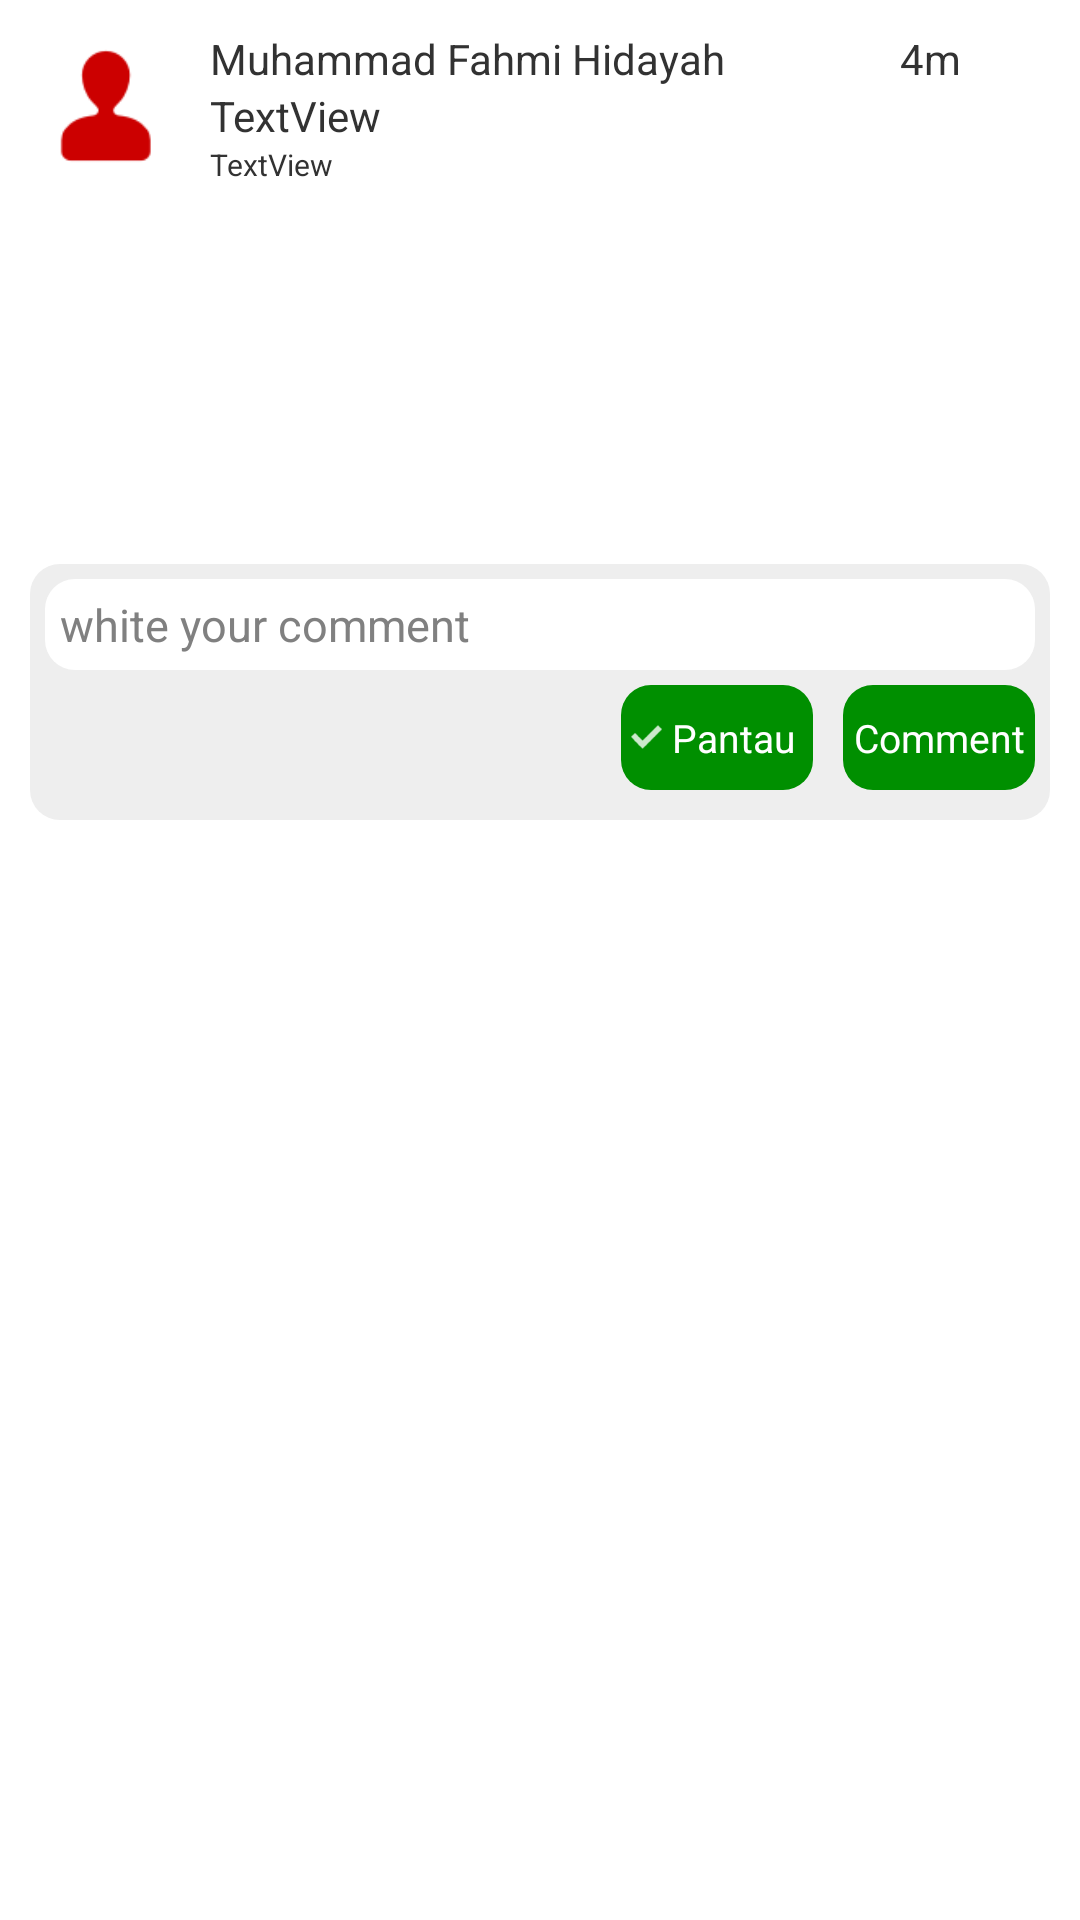

Icons on this 1080px×1920px Android screen, each with its box as region(x1, y1, x2, y2):
profile: region(60, 50, 151, 161)
